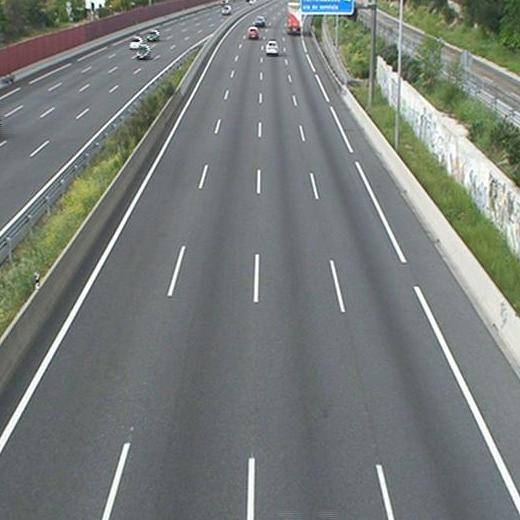car: (265, 42, 279, 53), (247, 27, 260, 38), (253, 16, 266, 26)
truck: (288, 3, 302, 32)
